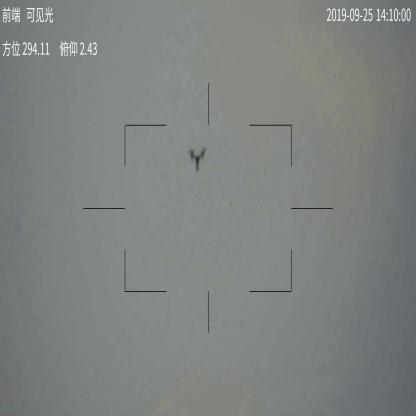uav: (187, 146, 207, 169)
